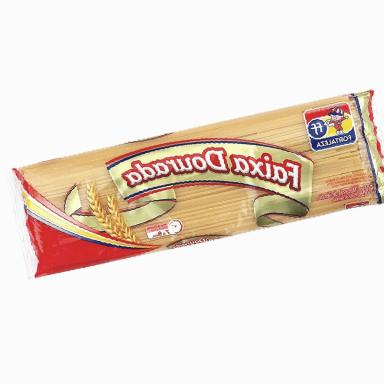pasta package: (14, 91, 383, 276)
